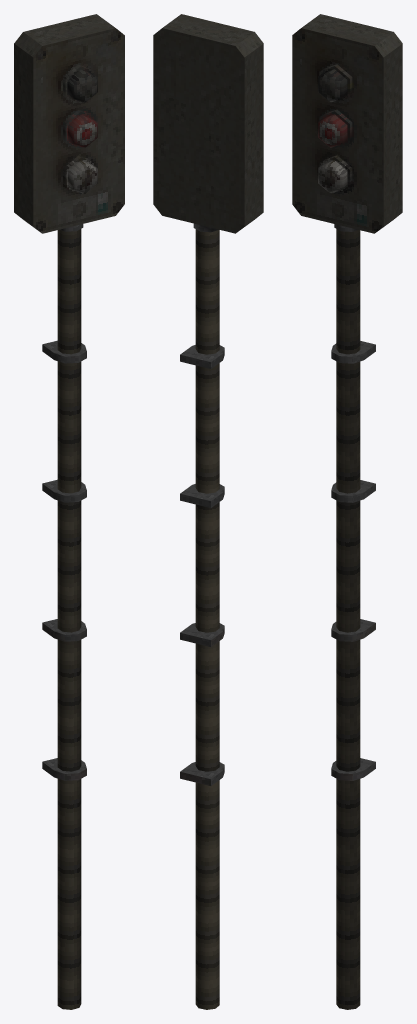
File: button_12.glb
3 renders of one model, left to right at view 1: azimuth 30°, elevation 25°; view 2: azimuth 150°, elevation 25°; view 3: azimuth 330°, elevation 25°, orthographic.
Parts seen in each view (by area): view 1: button_12; view 2: button_12; view 3: button_12.
Part boxes in pixels (<box>): button_12: <box>14,14,124,1009</box>; button_12: <box>153,14,263,1009</box>; button_12: <box>292,14,402,1009</box>.
Size of the model in its own units: 0.11 by 1.12 by 0.063.
Materials: 3 (3 with a texture image).
